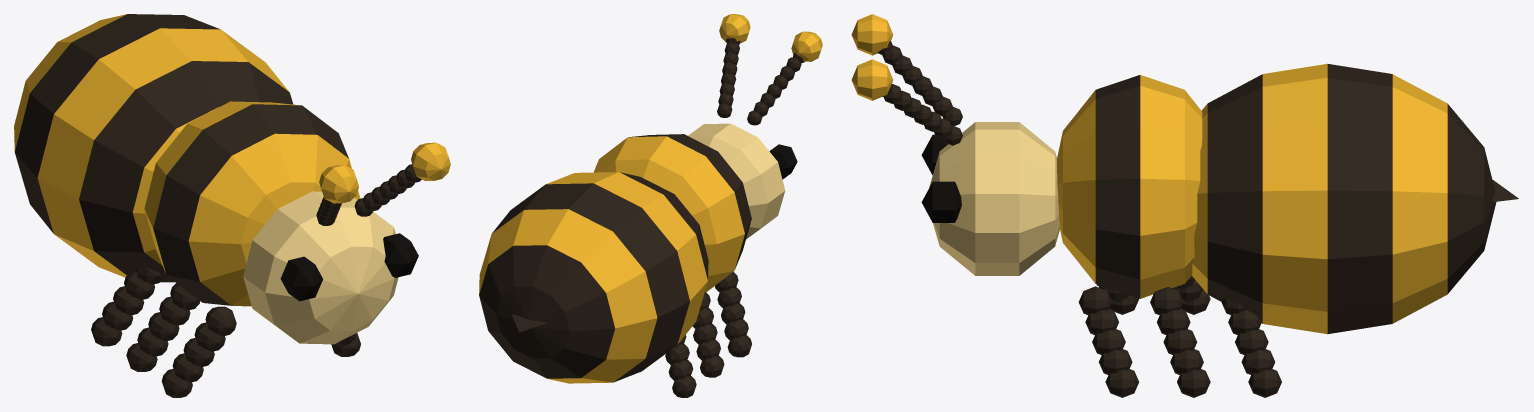
The model's file is bee.meshopt.glb.
3 views of the same model, side by side, from view 1: azimuth 30°, elevation 25°; view 2: azimuth 150°, elevation 25°; view 3: azimuth 270°, elevation 25° (orthographic). The views are drawn at different scales.
Parts seen in each view (by area): view 1: bee; view 2: bee; view 3: bee.
Part boxes in pixels (x1=…): bee: x1=14, y1=14, x2=450, y2=397; bee: x1=479, y1=14, x2=822, y2=397; bee: x1=851, y1=14, x2=1518, y2=397.
Bounding box in the file's own units: 0.064 × 0.0779 × 0.1497.
